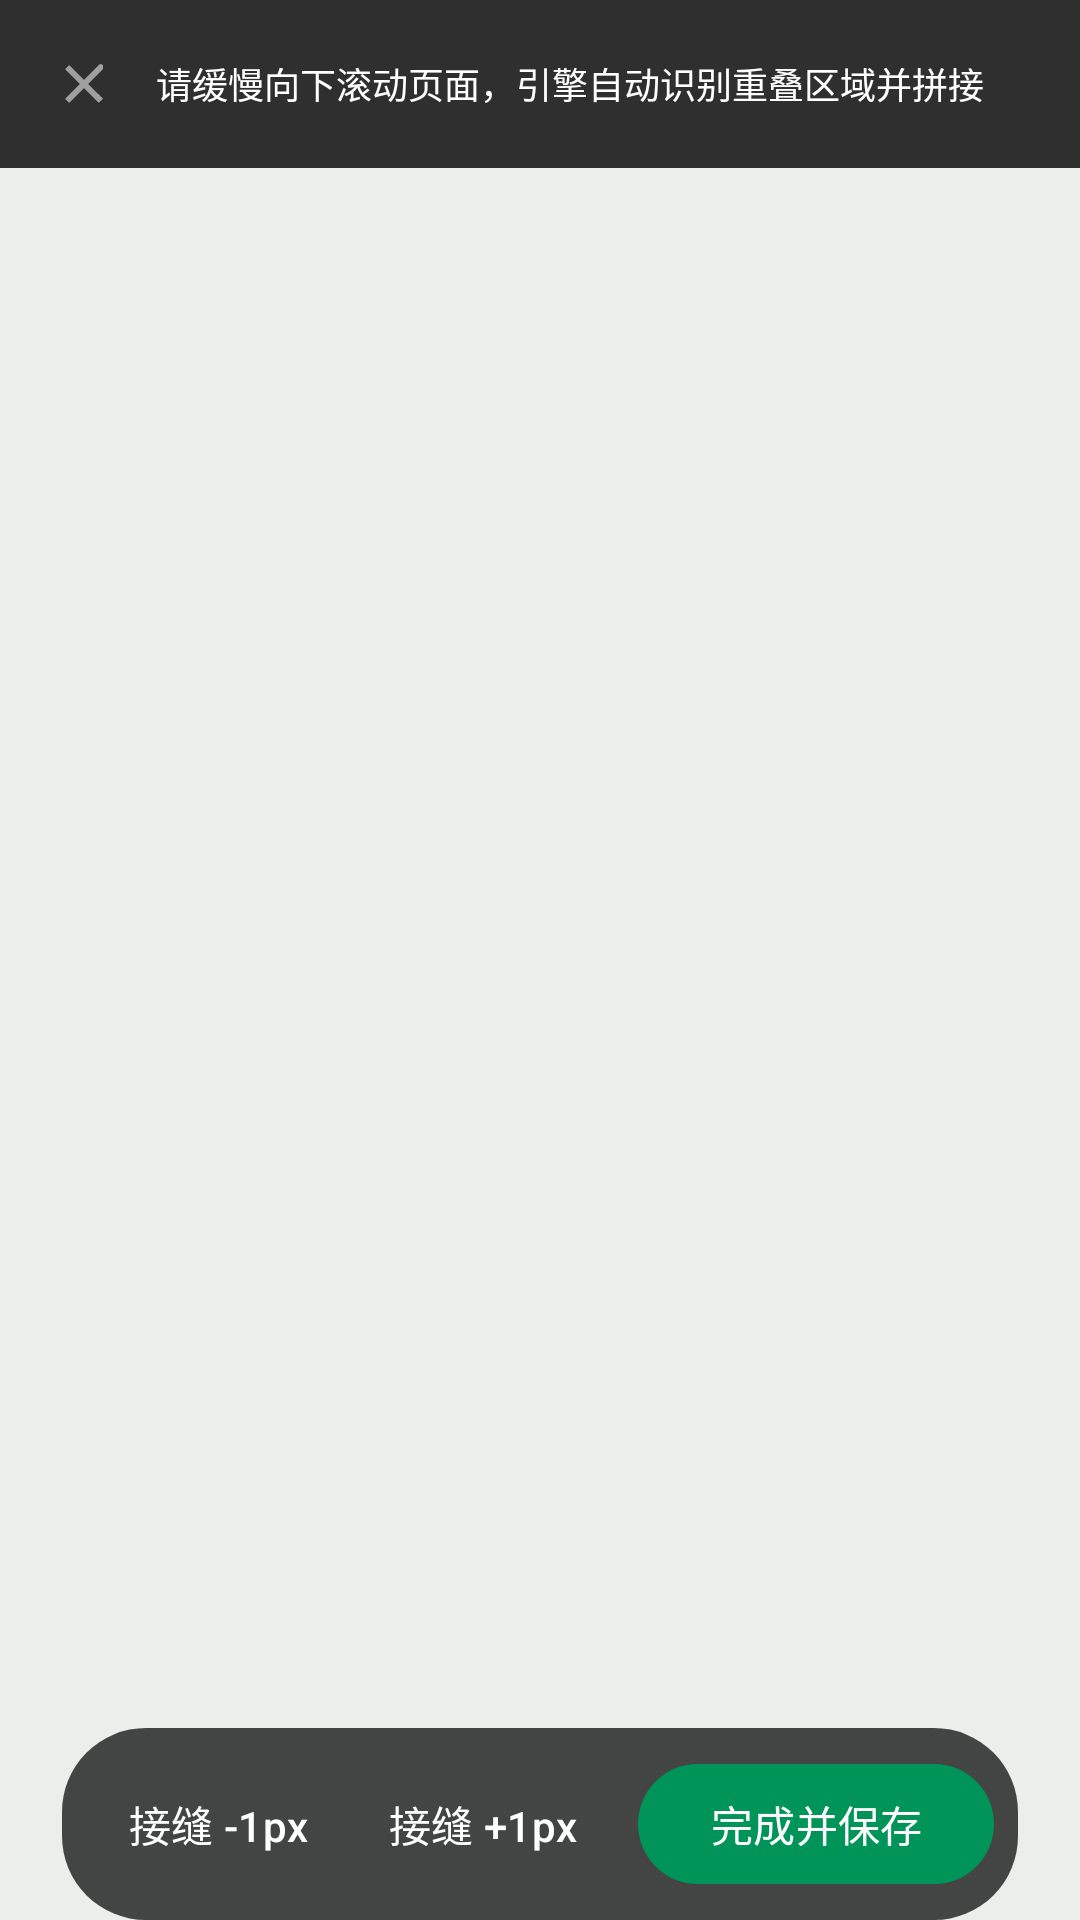

Icon bounding boxes for this 1080px×1920px phone screenshot, format {"x1": x1, "y1": y1, "x2": x2, "y2": y2}:
关闭: {"x1": 65, "y1": 64, "x2": 103, "y2": 103}
